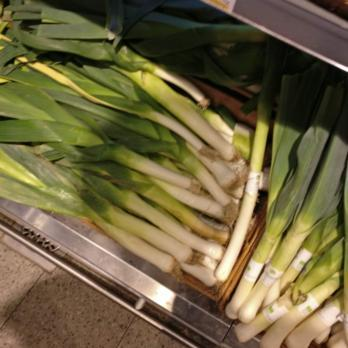Leek Leaves: (0, 4, 216, 228), (176, 81, 348, 348)
